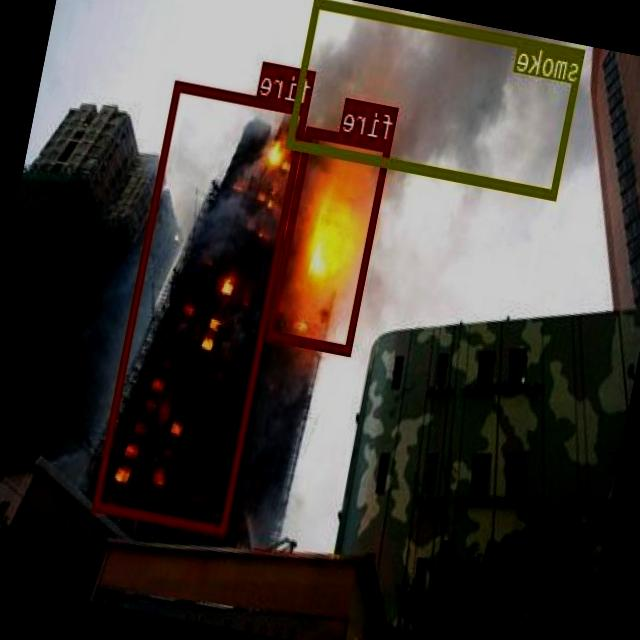fire: (94, 79, 312, 536), (268, 125, 393, 354)
smoke: (288, 0, 587, 198)
